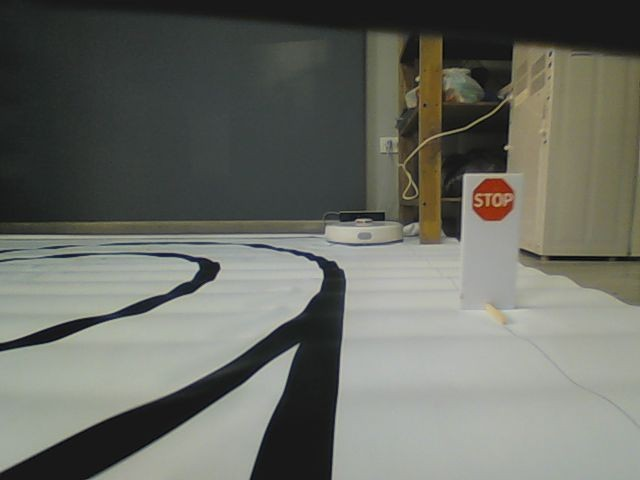Stop: (471, 176, 515, 223)
